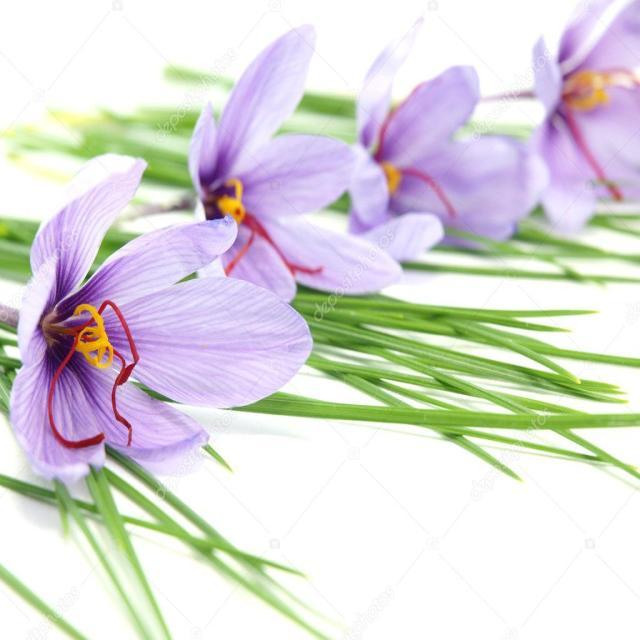Flower: (14, 166, 312, 468), (179, 24, 409, 304), (350, 33, 546, 260), (500, 23, 640, 225)
stigma: (39, 339, 105, 461), (108, 289, 154, 451), (556, 111, 625, 204), (248, 210, 308, 277), (404, 161, 456, 220)
